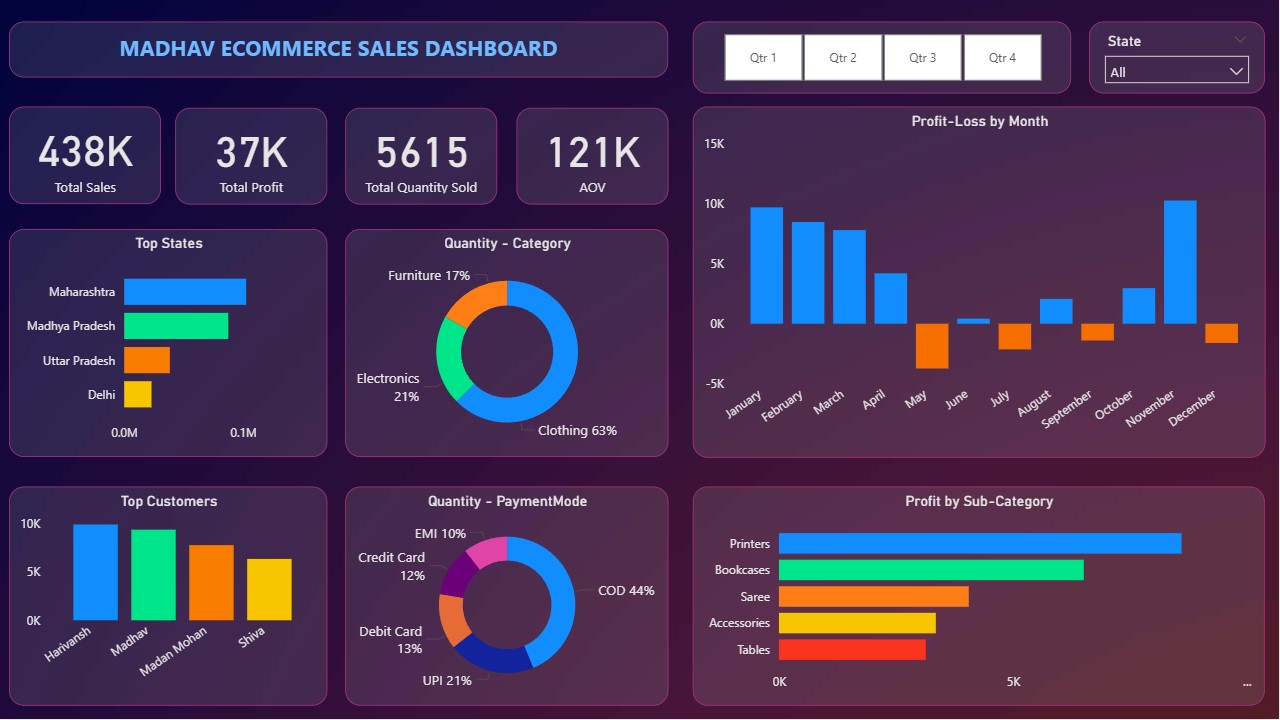

This screenshot's page, from the dashboard's own definition file:
{"tool":"powerbi","page":{"name":"Page 1","canvas":[1280,720],"ordinal":0},"visuals":[{"type":"textbox","box":[10.1,22.8,659.5,55.7],"z":0},{"type":"columnChart","title":"Profit-Loss by Month","fields":{"Category":["Orders.Order Date.Variation.Date Hierarchy.Month"],"Y":["Sum(Details.Profit)"]},"box":[693.7,107.4,573.1,351.1],"z":1000},{"type":"barChart","title":"Profit by Sub-Category","fields":{"Category":["Details.Sub-Category"],"Y":["Sum(Details.Profit)"]},"box":[693.7,487.4,571.9,219.6],"z":2000},{"type":"donutChart","title":"Quantity - Category","fields":{"Category":["Details.Category"],"Y":["Sum(Details.Quantity)"]},"box":[346.2,230.4,323.3,228],"z":3000},{"type":"donutChart","title":"Quantity - PaymentMode","fields":{"Y":["Sum(Details.Quantity)"],"Category":["Details.PaymentMode"]},"box":[346.2,487.4,323.3,219.6],"z":4000},{"type":"card","fields":{"Values":["Sum(Details.Amount)"]},"box":[9.6,107,152.3,97.4],"z":5000},{"type":"card","fields":{"Values":["Sum(Details.Quantity)"]},"box":[346.2,108.6,152,96.5],"z":6000},{"type":"card","fields":{"Values":["Sum(Details.Profit)"]},"box":[176.1,108.6,152,96.5],"z":7000},{"type":"card","fields":{"Values":["Sum(Details.AOV)"]},"box":[517.6,108.6,152,96.5],"z":8000},{"type":"barChart","title":"Top States","fields":{"Category":["Orders.State"],"Y":["Sum(Details.Amount)"]},"box":[9.7,230.4,318.5,228],"z":9000},{"type":"columnChart","title":"Top Customers","fields":{"Category":["Orders.CustomerName"],"Y":["Sum(Details.Amount)"]},"box":[9.7,487.4,318.5,219.6],"z":10000},{"type":"slicer","fields":{"Values":["Orders.Order Date.Variation.Date Hierarchy.Quarter"]},"box":[693.7,22.8,378.5,72.2],"z":11000},{"type":"slicer","fields":{"Values":["Orders.State"]},"box":[1089.9,22.8,175.9,72.2],"z":12000}]}

Visuals, with their boxes in screenshot pixels (x1, y1, x2, y2), scaled from the page's 1280x720 canvas onto the 1280x720 screenshot:
textbox: x1=10 y1=23 x2=670 y2=78
"Profit-Loss by Month" columnChart: x1=694 y1=107 x2=1267 y2=458
"Profit by Sub-Category" barChart: x1=694 y1=487 x2=1266 y2=707
"Quantity - Category" donutChart: x1=346 y1=230 x2=670 y2=458
"Quantity - PaymentMode" donutChart: x1=346 y1=487 x2=670 y2=707
card - Sum(Details.Amount): x1=10 y1=107 x2=162 y2=204
card - Sum(Details.Quantity): x1=346 y1=109 x2=498 y2=205
card - Sum(Details.Profit): x1=176 y1=109 x2=328 y2=205
card - Sum(Details.AOV): x1=518 y1=109 x2=670 y2=205
"Top States" barChart: x1=10 y1=230 x2=328 y2=458
"Top Customers" columnChart: x1=10 y1=487 x2=328 y2=707
slicer - Orders.Order Date.Variation.Date Hierarchy.Quarter: x1=694 y1=23 x2=1072 y2=95
slicer - Orders.State: x1=1090 y1=23 x2=1266 y2=95
